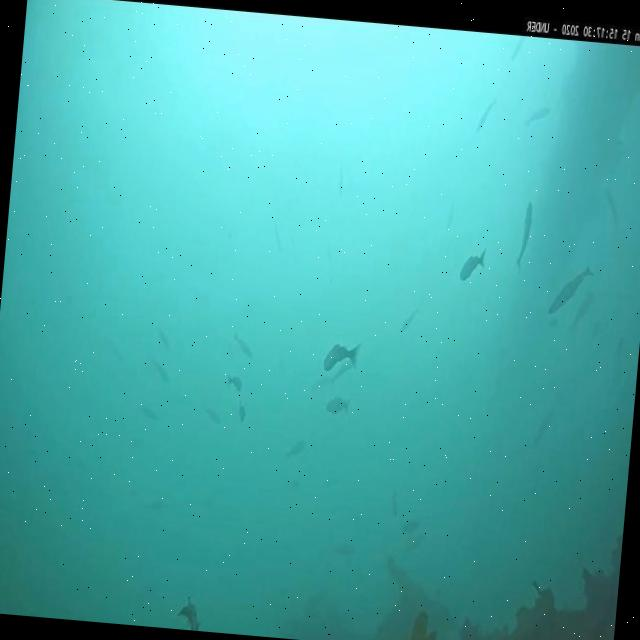fish: (547, 264, 592, 316), (514, 200, 532, 270), (321, 343, 359, 372), (535, 403, 555, 448), (459, 248, 486, 280), (474, 98, 496, 132), (230, 329, 254, 358), (602, 189, 619, 223), (154, 324, 172, 356), (524, 106, 550, 128), (152, 358, 172, 382), (324, 396, 348, 416), (285, 441, 305, 462), (401, 308, 418, 332), (225, 372, 244, 392), (140, 405, 159, 421), (444, 200, 454, 230), (512, 36, 524, 60), (272, 224, 282, 252), (402, 518, 418, 532), (389, 492, 398, 516), (338, 168, 344, 196), (238, 406, 246, 424)
